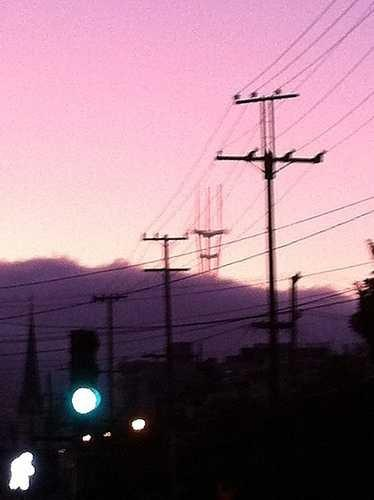green: (65, 327, 105, 423)
